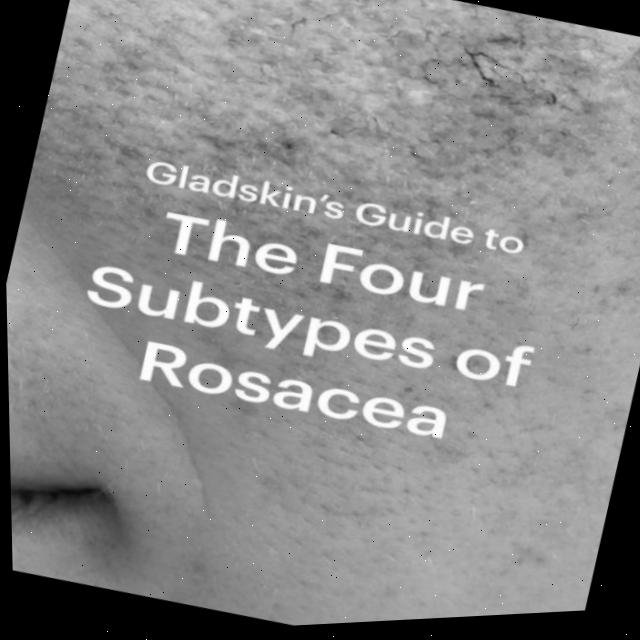Rosacea: (45, 0, 640, 310)
